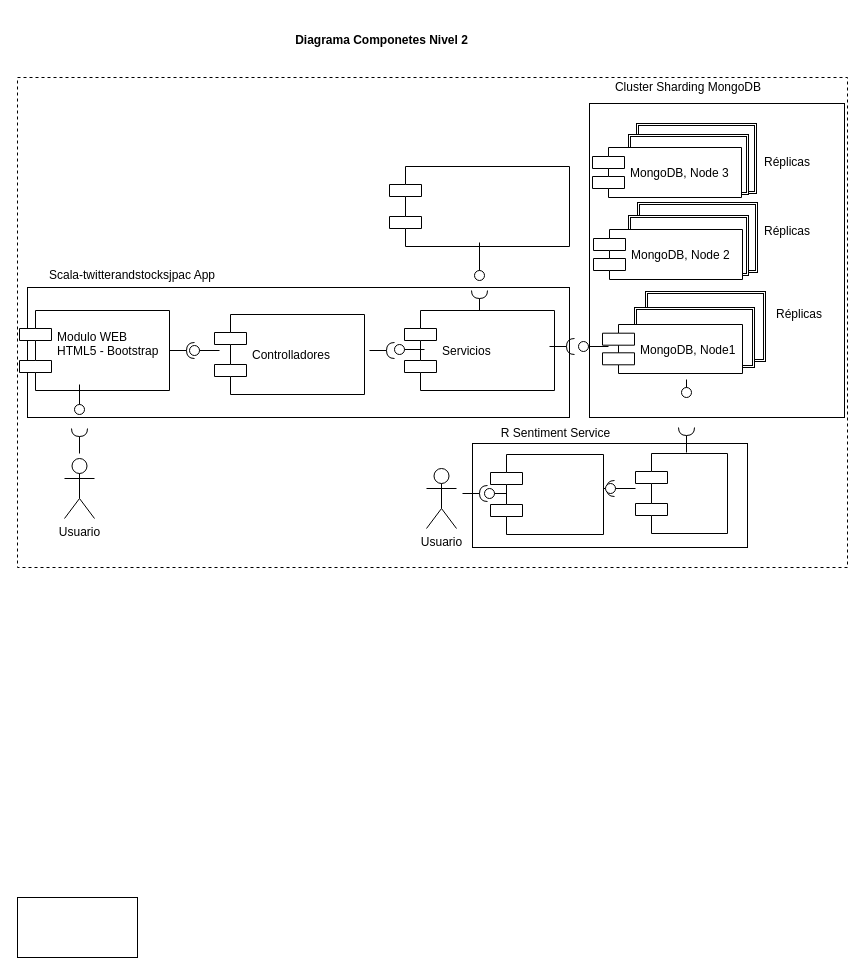
Image size: 865x975. Some labels were removed from this diagram. The centre of each missing label's shape, as x and y in pixels:
"R Client UI" goes at (547,494).
"R Server" goes at (681,493).
"Twitter API REST" goes at (479,206).
